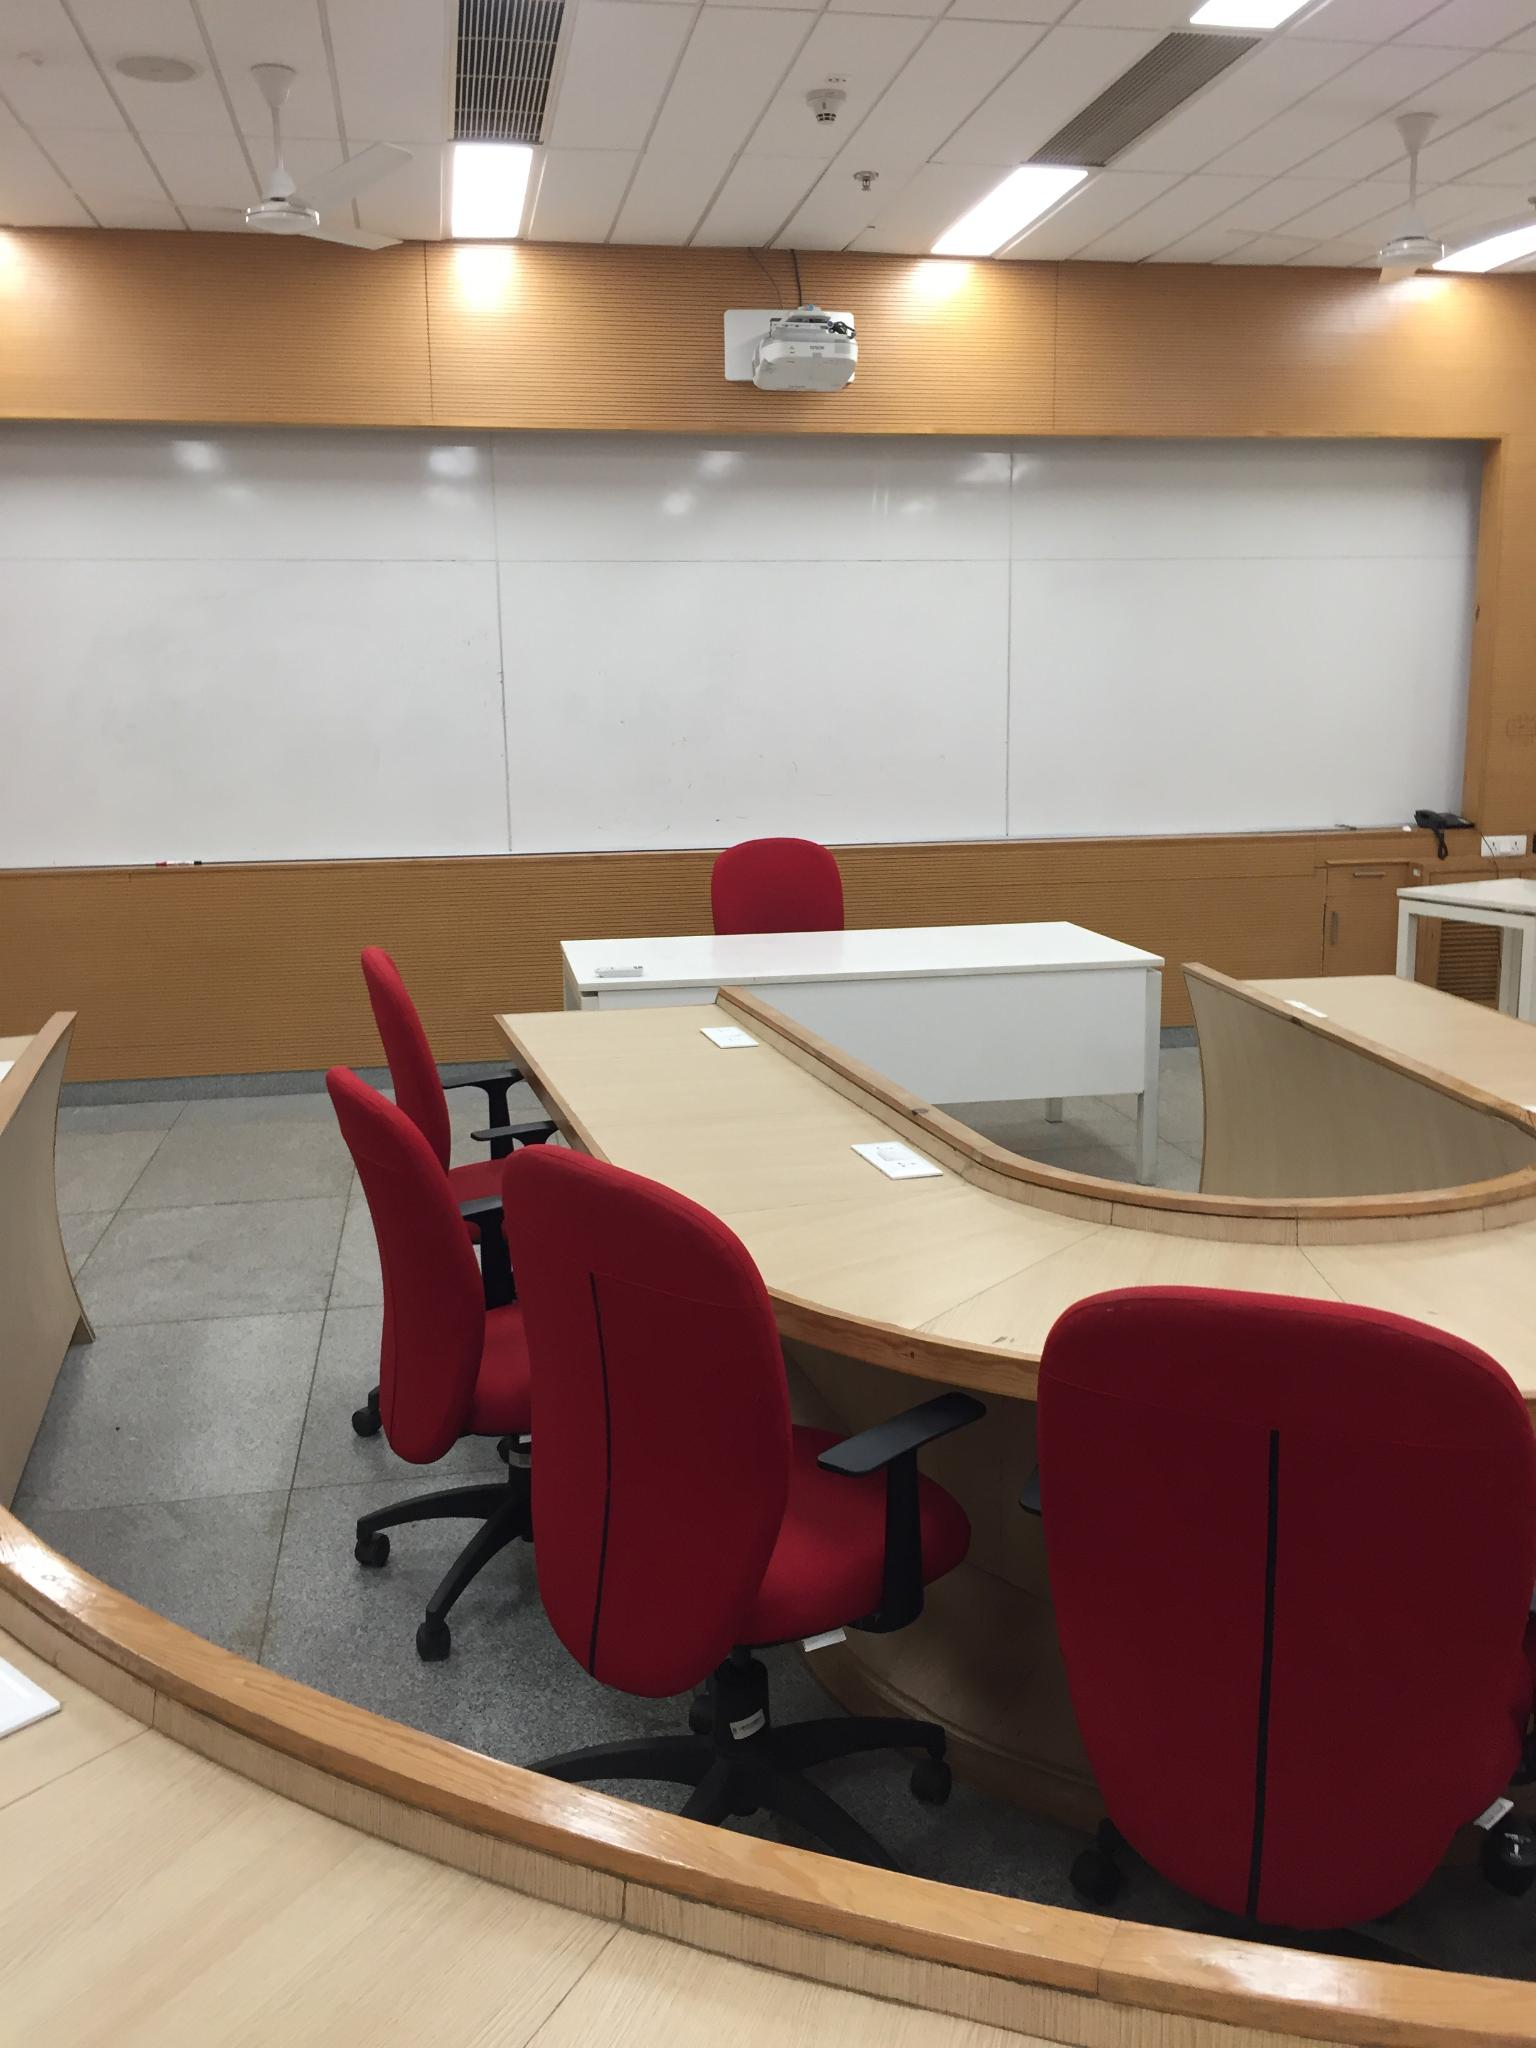chair: (499, 1142, 983, 1872), (1023, 1282, 1534, 1934), (324, 1063, 536, 1661), (352, 943, 560, 1440), (710, 835, 844, 932)
